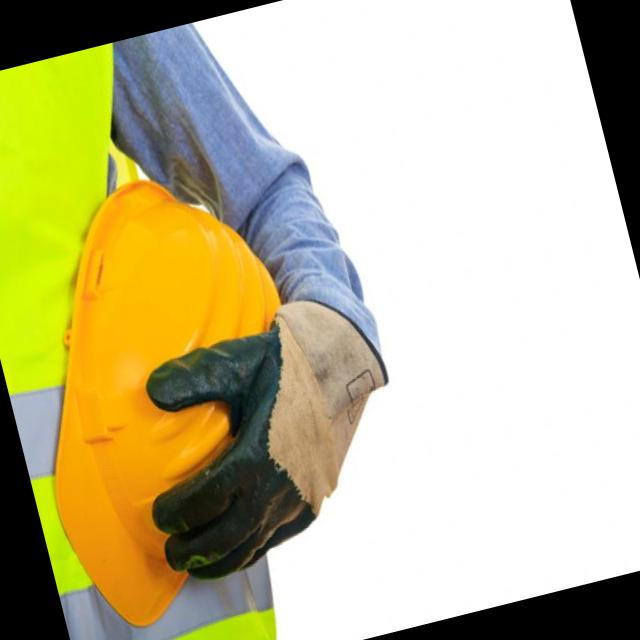Gloves: (111, 268, 426, 586)
Helmet: (0, 163, 344, 640)
